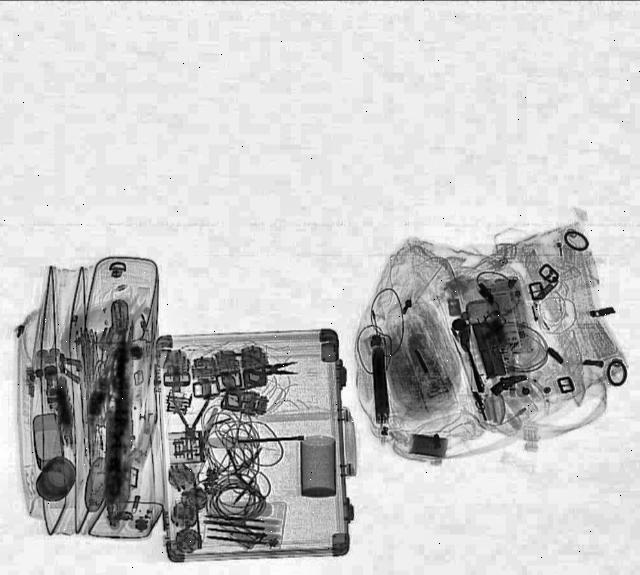Pliers: (225, 348, 303, 392), (170, 388, 212, 444)
